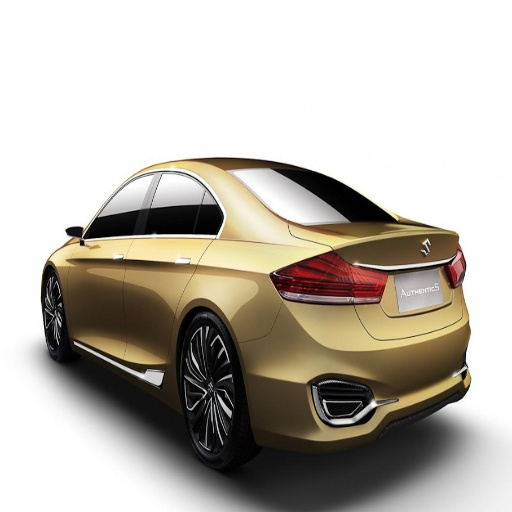back_bumper: (240, 301, 471, 450)
back_glass: (226, 160, 403, 223)
back_left_door: (123, 170, 211, 348)
tailgate: (312, 224, 450, 318)
trunk: (351, 283, 454, 340)
